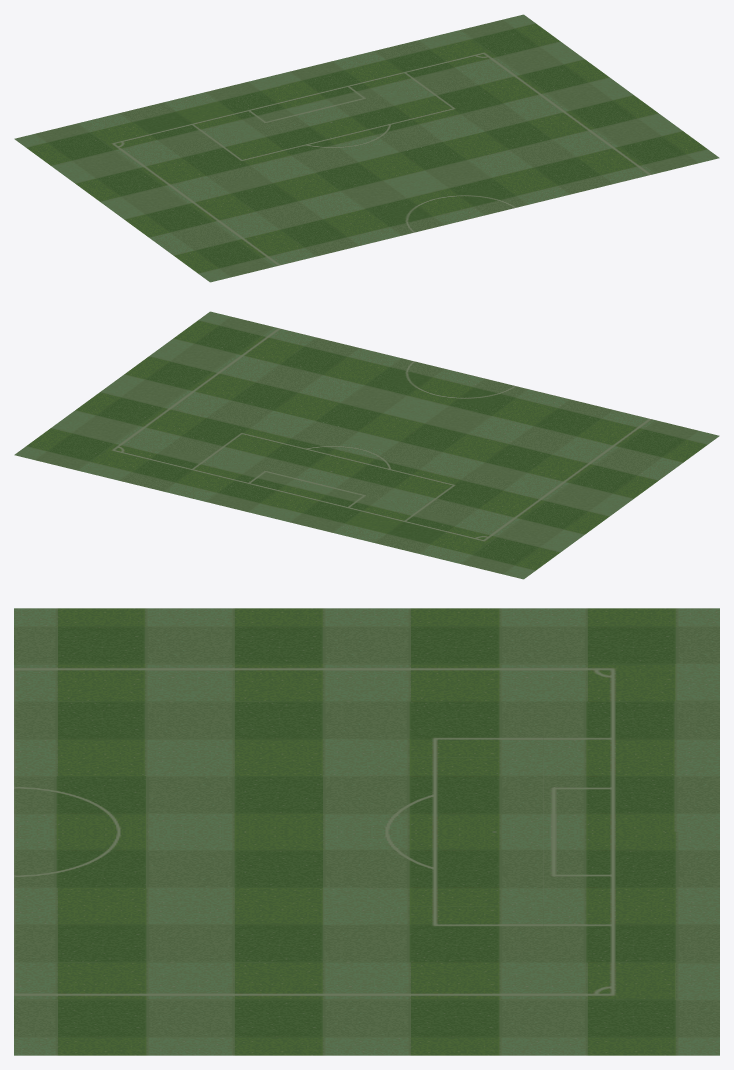
3 views of the same model, one above another, from view 1: azimuth 30°, elevation 25°; view 2: azimuth 150°, elevation 25°; view 3: azimuth 270°, elevation 25° (orthographic). The views are drawn at different scales.
Size of the model in its own units: 92.4 by 0 by 61.6.
4 materials, 4 textured.
